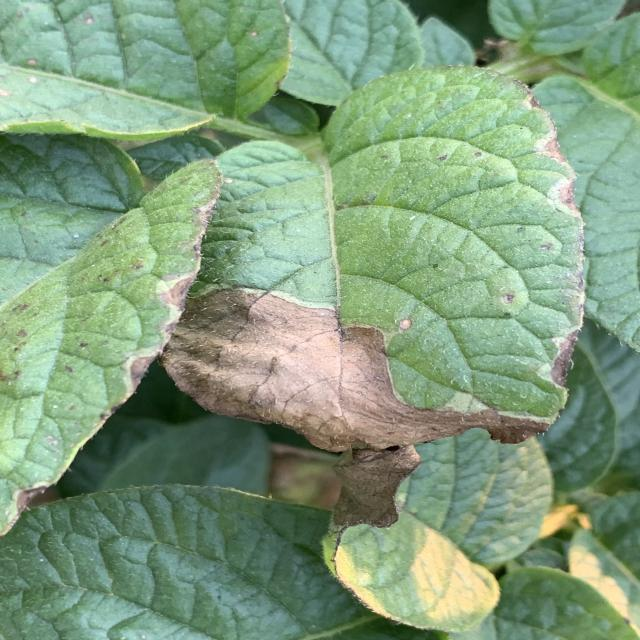lateblight: (162, 289, 550, 451), (500, 98, 583, 352)
